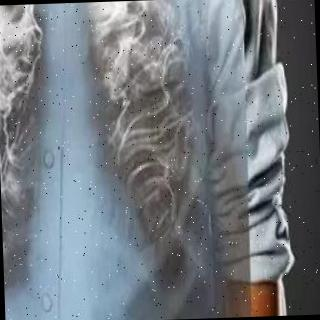smoke: (94, 0, 181, 134), (0, 4, 35, 97)
